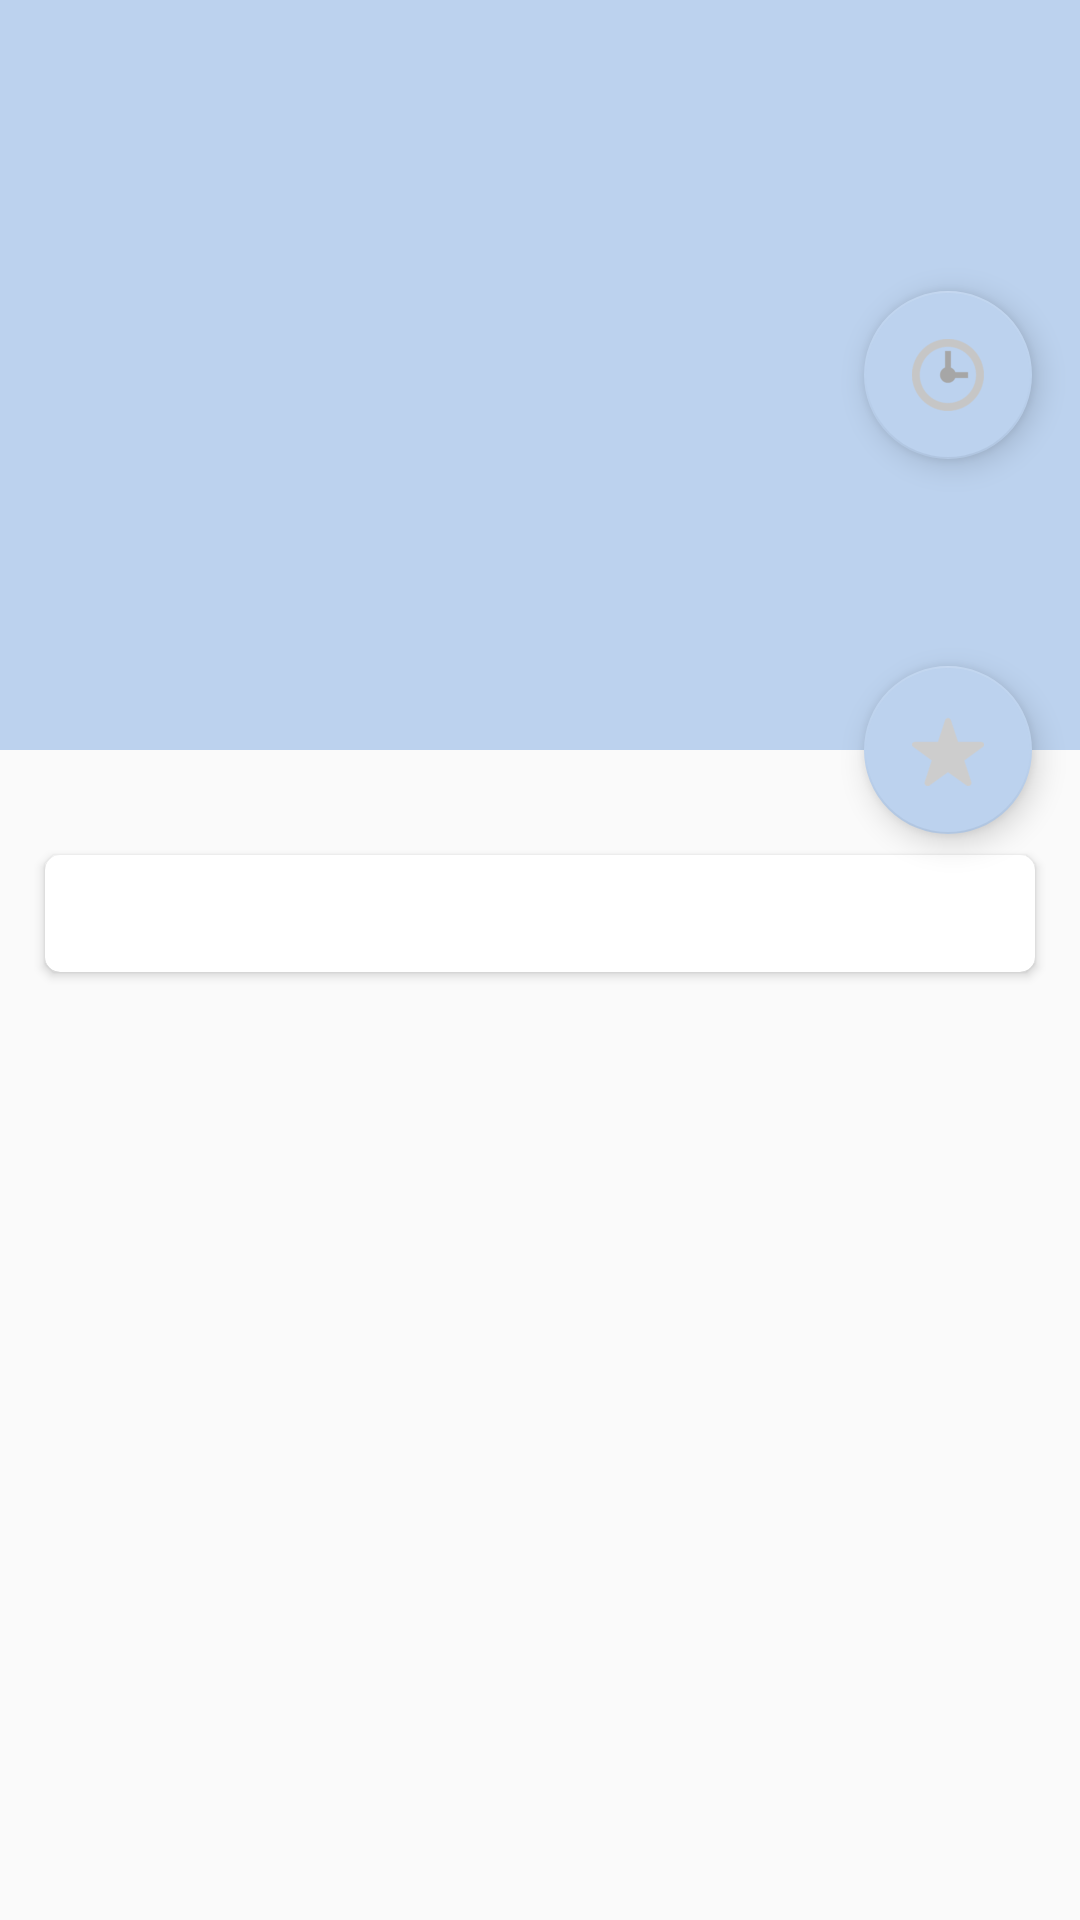

Point at icon controls on the screen. Image size 1080 x 1920, points as (x,y).
clock nosign: (972,399)
star nosign: (948,750)
